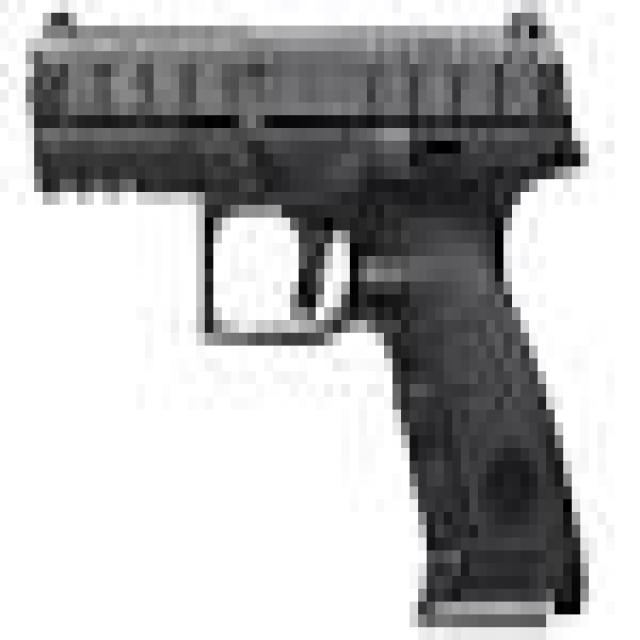pistol: (20, 1, 608, 640)
